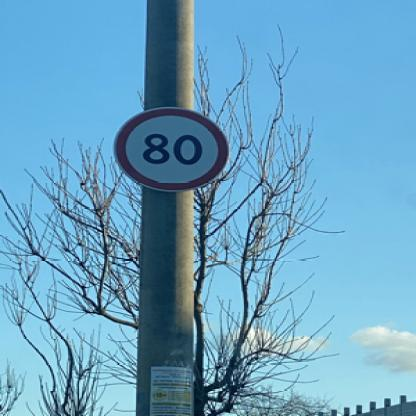Speed Limit 80: (116, 108, 228, 189)
